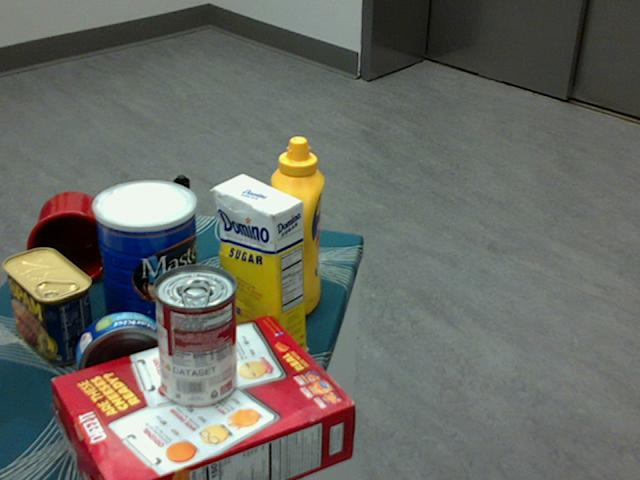cracker_box: (53, 316, 355, 479)
large_marker: (173, 174, 193, 270)
master_chef_can: (91, 180, 199, 344)
mug: (19, 191, 112, 286)
mustard_bottle: (268, 136, 323, 315)
potted_meat_can: (1, 246, 94, 365)
sugar_box: (213, 173, 305, 366)
tomato_soup_can: (151, 266, 235, 408)
tuna_fish_can: (75, 312, 172, 406)
